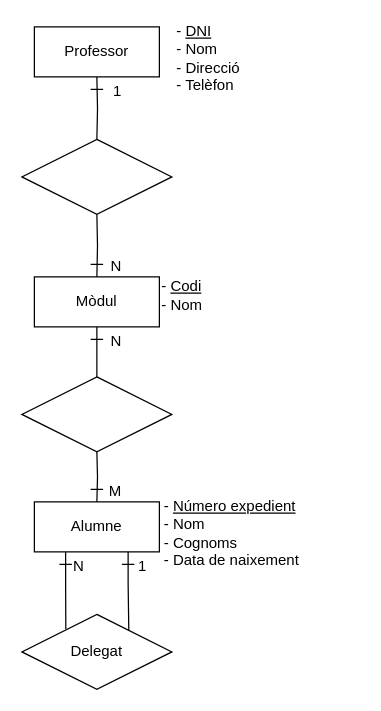
This 381x711 diagram has some shape labels left out. The shapes that lost their labels are listed below. From the top down, each one's centre as x and y in pixels, then its label:
At point (96, 176): "Imparteix".
At point (96, 414): "Matrículat".
